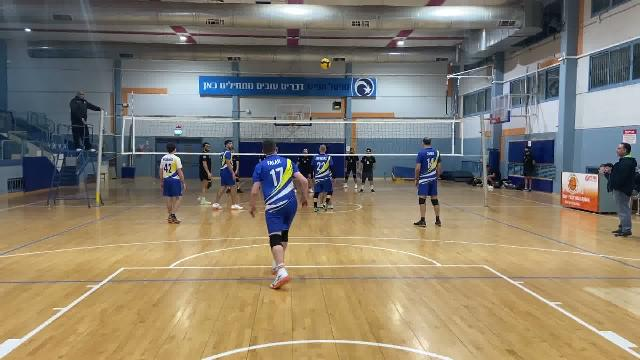ball: (319, 55, 333, 73)
